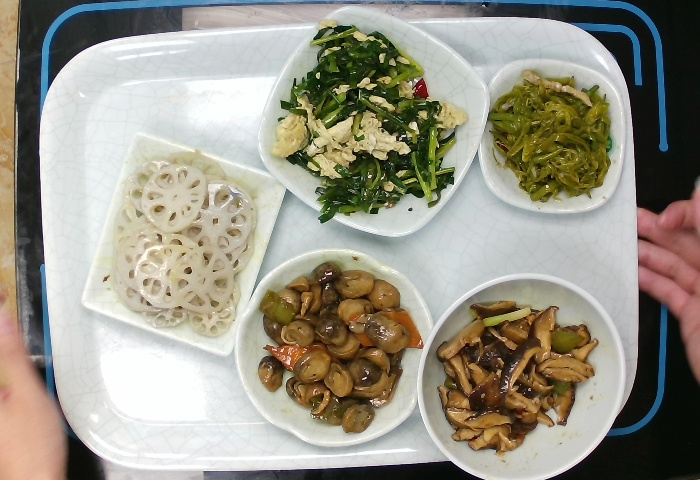JYsf-Ao_Yuan_Wan: (230, 243, 437, 453)
JYsf-Fan_Wan: (412, 268, 633, 476)
JYsf-Si_Fang_Die: (477, 53, 629, 218)
WCQzf-Da_Si_Fang_Die: (252, 3, 493, 244)
WCQzf-Ru_Ci_Si_Fang_Die: (79, 128, 292, 360)
